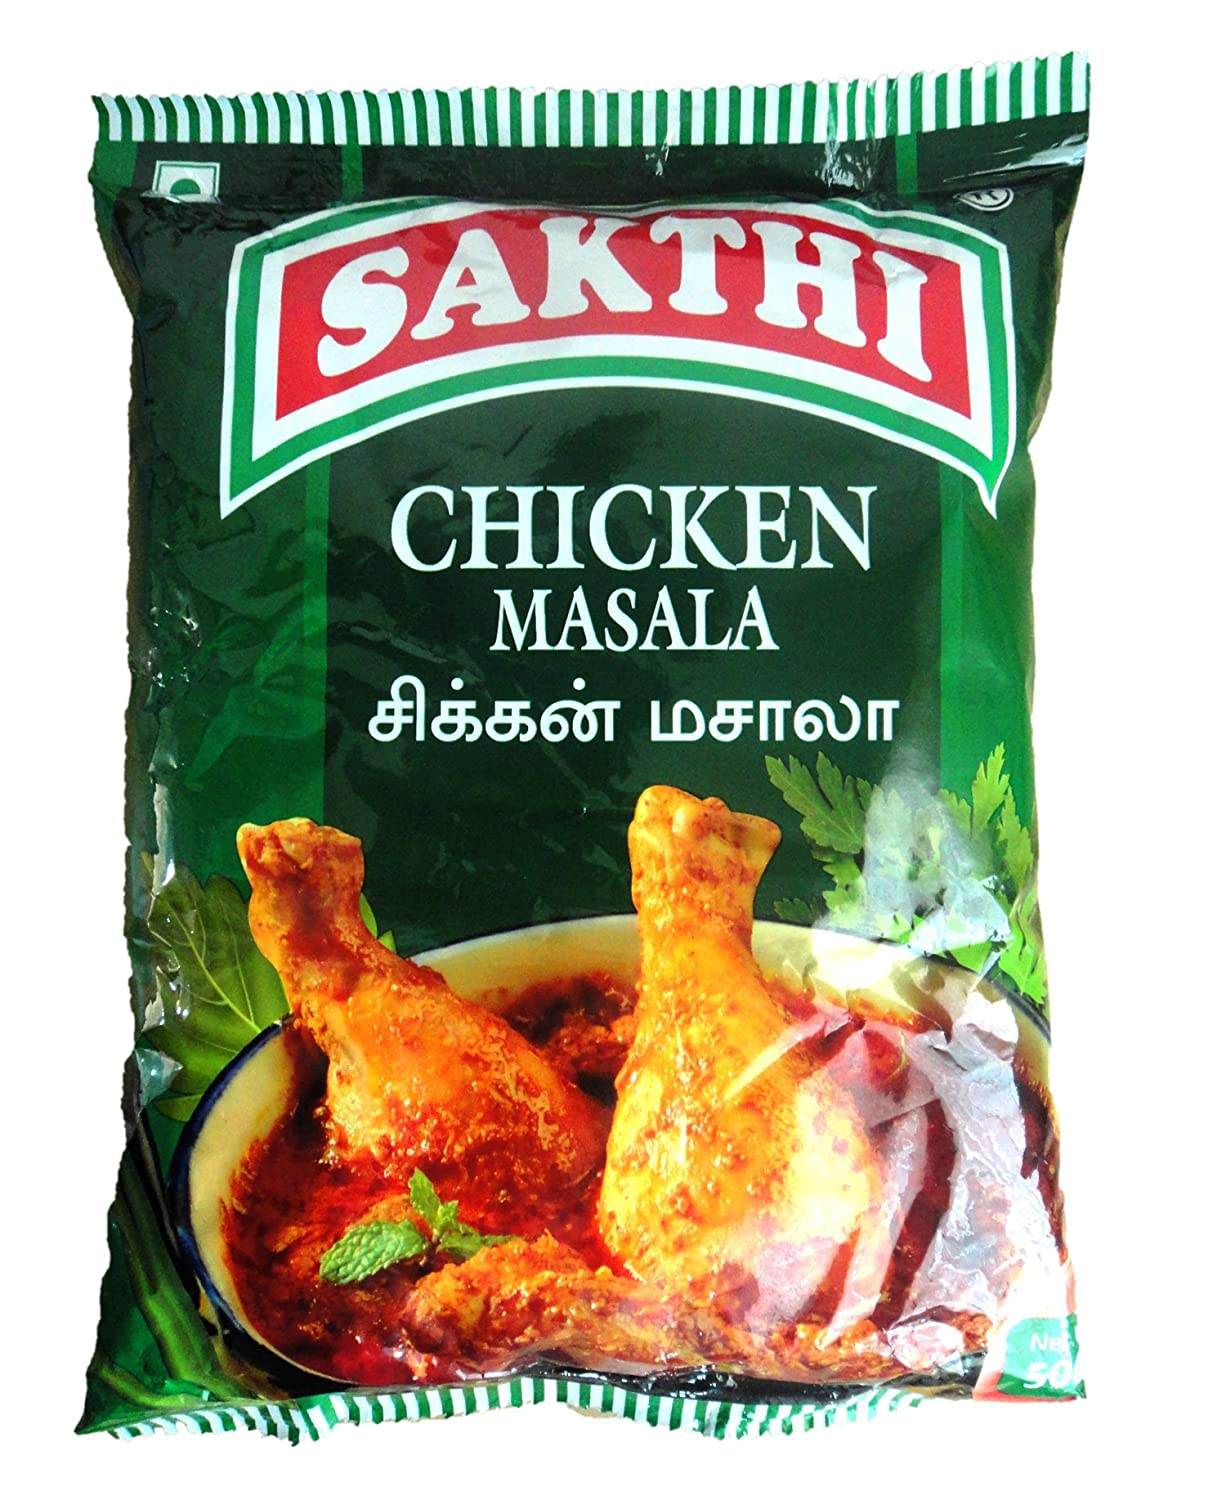VEG: (153, 154, 221, 208)
